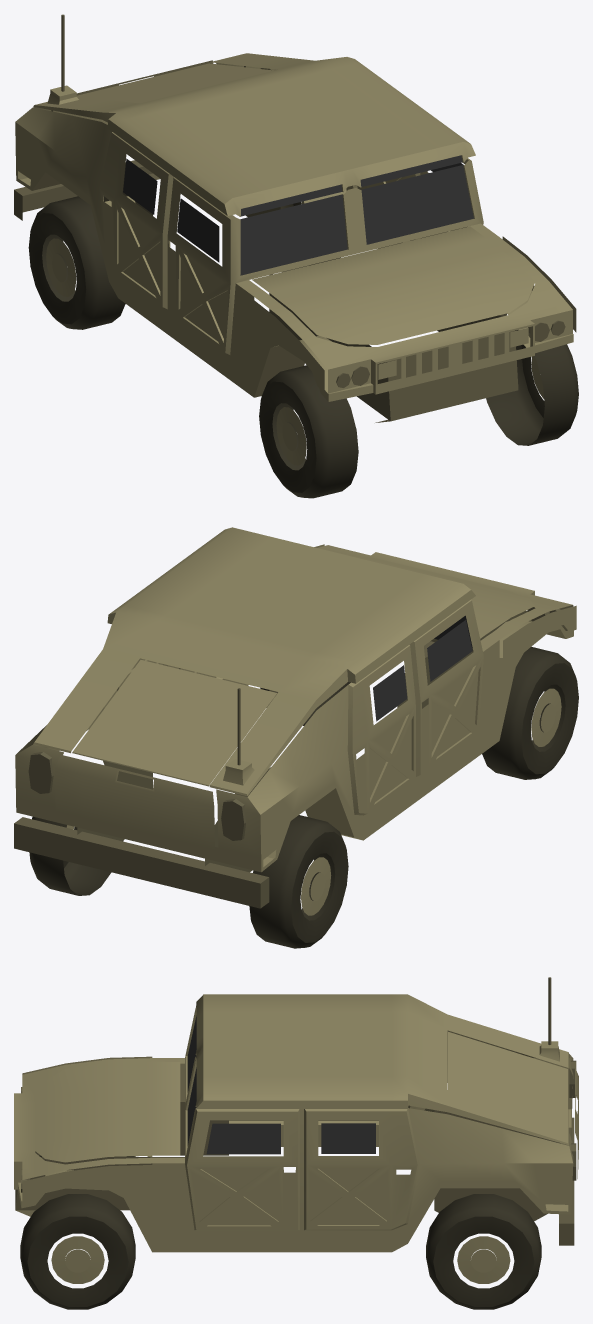
File: L2Humvee.fbx
3 renders of one model, top to bottom at view 1: azimuth 30°, elevation 25°; view 2: azimuth 150°, elevation 25°; view 3: azimuth 270°, elevation 25°, orthographic. The views are drawn at different scales.
Parts seen in each view (by area): view 1: Carroceria, Llanta1, Llanta3, Llanta2; view 2: Carroceria, Llanta3, Llanta1, Llanta4; view 3: Carroceria, Llanta4, Llanta2.
Part boxes in pixels (x1,y1,x2,y2): Carroceria: [14, 14, 576, 422]; Llanta1: [259, 365, 358, 498]; Llanta3: [28, 196, 125, 329]; Llanta2: [486, 330, 578, 445]; Carroceria: [14, 527, 576, 908]; Llanta3: [249, 815, 348, 948]; Llanta1: [482, 647, 578, 779]; Llanta4: [29, 816, 123, 895]; Carroceria: [14, 977, 578, 1252]; Llanta4: [426, 1194, 541, 1309]; Llanta2: [20, 1194, 135, 1309].
Bounding box in the file's own units: 404 × 403 × 855.
